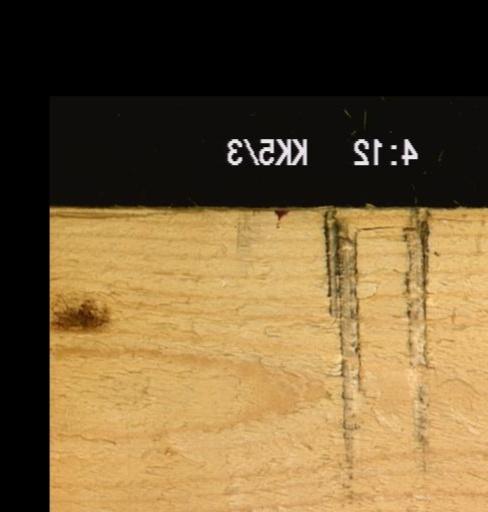wave: (48, 204, 207, 219)
